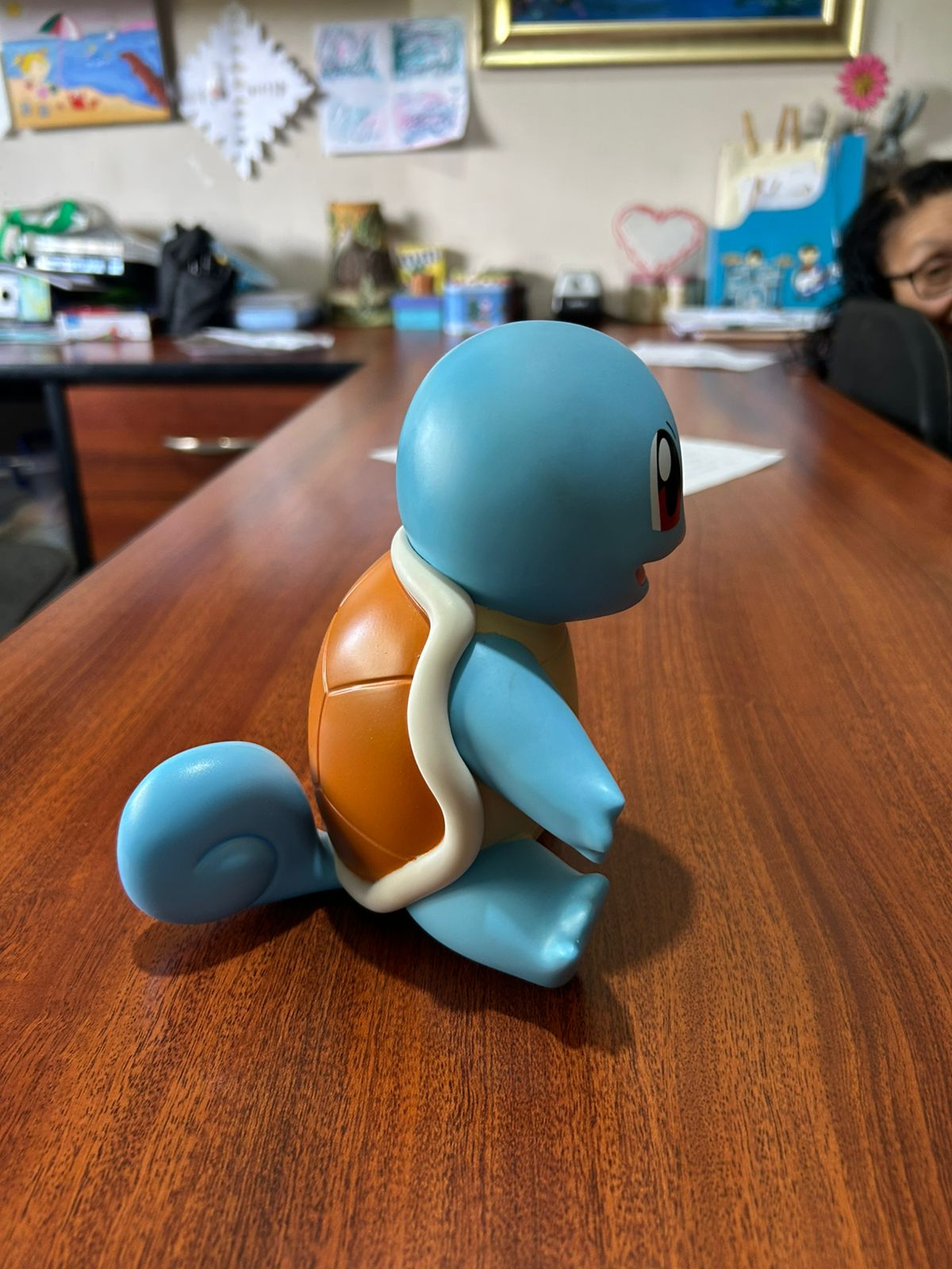Squirtle: (118, 322, 683, 984)
